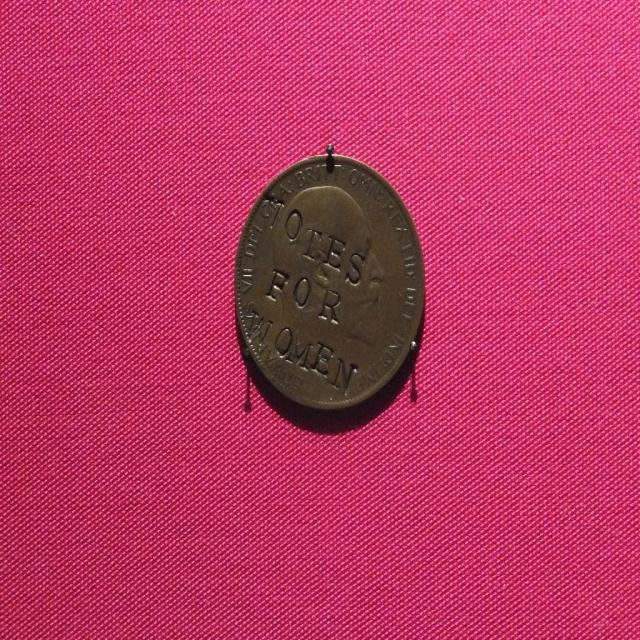Coin: (235, 151, 424, 410)
